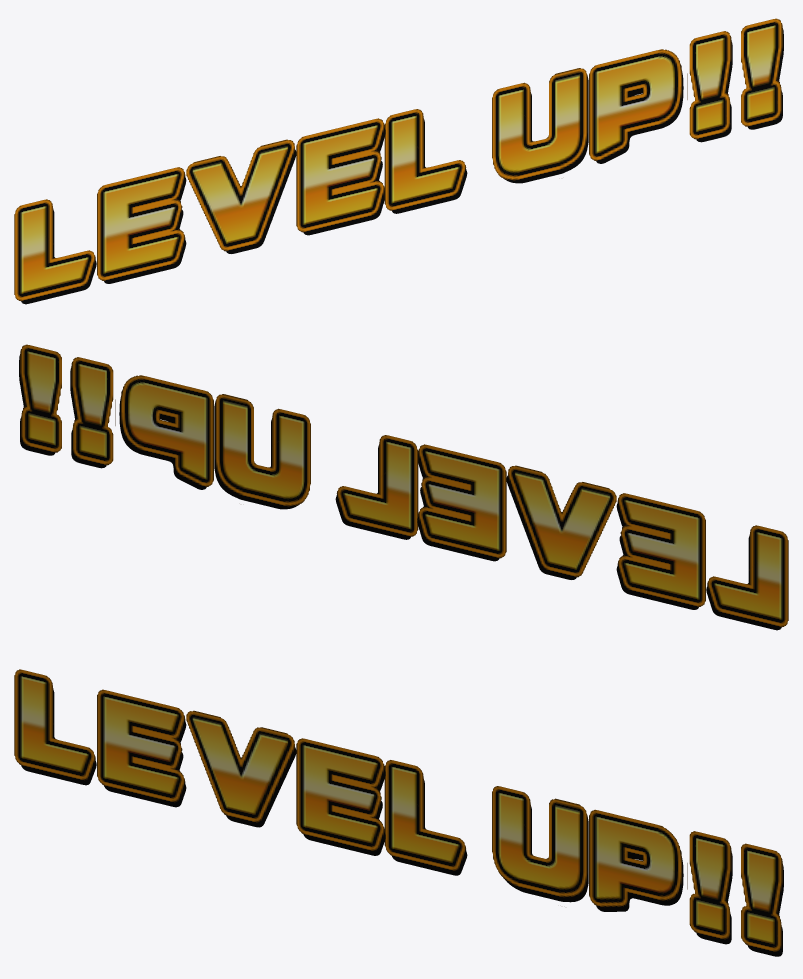
The model's file is GUI_levelup.FBX.
The picture shows the model from 3 angles, top to bottom: view 1: azimuth 30°, elevation 25°; view 2: azimuth 150°, elevation 25°; view 3: azimuth 330°, elevation 25°; orthographic projection.
Visible parts, largest first — view 1: GUI_levelup_4, GUI_levelup_2, GUI_levelup_6, GUI_levelup_7, GUI_levelup_3, GUI_levelup_5, GUI_levelup_1, GUI_levelup_8, GUI_levelup_9; view 2: GUI_levelup_4, GUI_levelup_2, GUI_levelup_6, GUI_levelup_7, GUI_levelup_3, GUI_levelup_5, GUI_levelup_1, GUI_levelup_8, GUI_levelup_9; view 3: GUI_levelup_4, GUI_levelup_2, GUI_levelup_6, GUI_levelup_7, GUI_levelup_3, GUI_levelup_1, GUI_levelup_5, GUI_levelup_8, GUI_levelup_9.
Boxes of the visible parts, x1,y1,x2,y2 form: GUI_levelup_4: (296, 118, 385, 235); GUI_levelup_2: (97, 167, 186, 283); GUI_levelup_6: (492, 68, 588, 183); GUI_levelup_7: (589, 49, 687, 163); GUI_levelup_3: (186, 139, 296, 253); GUI_levelup_5: (384, 109, 467, 213); GUI_levelup_1: (14, 199, 96, 304); GUI_levelup_8: (689, 31, 732, 142); GUI_levelup_9: (741, 18, 783, 129); GUI_levelup_4: (417, 444, 506, 561); GUI_levelup_2: (616, 493, 705, 609); GUI_levelup_6: (214, 394, 310, 509); GUI_levelup_7: (115, 375, 213, 489); GUI_levelup_3: (506, 465, 616, 579); GUI_levelup_5: (335, 435, 418, 539); GUI_levelup_1: (706, 525, 788, 630); GUI_levelup_8: (70, 357, 113, 468); GUI_levelup_9: (19, 344, 61, 455); GUI_levelup_4: (296, 738, 385, 855); GUI_levelup_2: (97, 689, 186, 807); GUI_levelup_6: (492, 786, 588, 902); GUI_levelup_7: (589, 809, 687, 911); GUI_levelup_3: (186, 710, 296, 827); GUI_levelup_1: (14, 669, 96, 785); GUI_levelup_5: (384, 760, 467, 875); GUI_levelup_8: (689, 831, 732, 944); GUI_levelup_9: (741, 843, 783, 956).
Bounding box in the file's own units: 655 × 90.18 × 1.67e-05.
6 materials, 6 textured.
